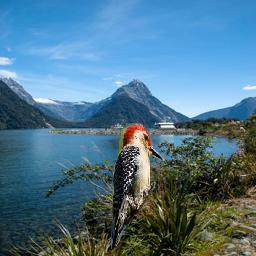Woodpecker: (111, 124, 165, 251)
